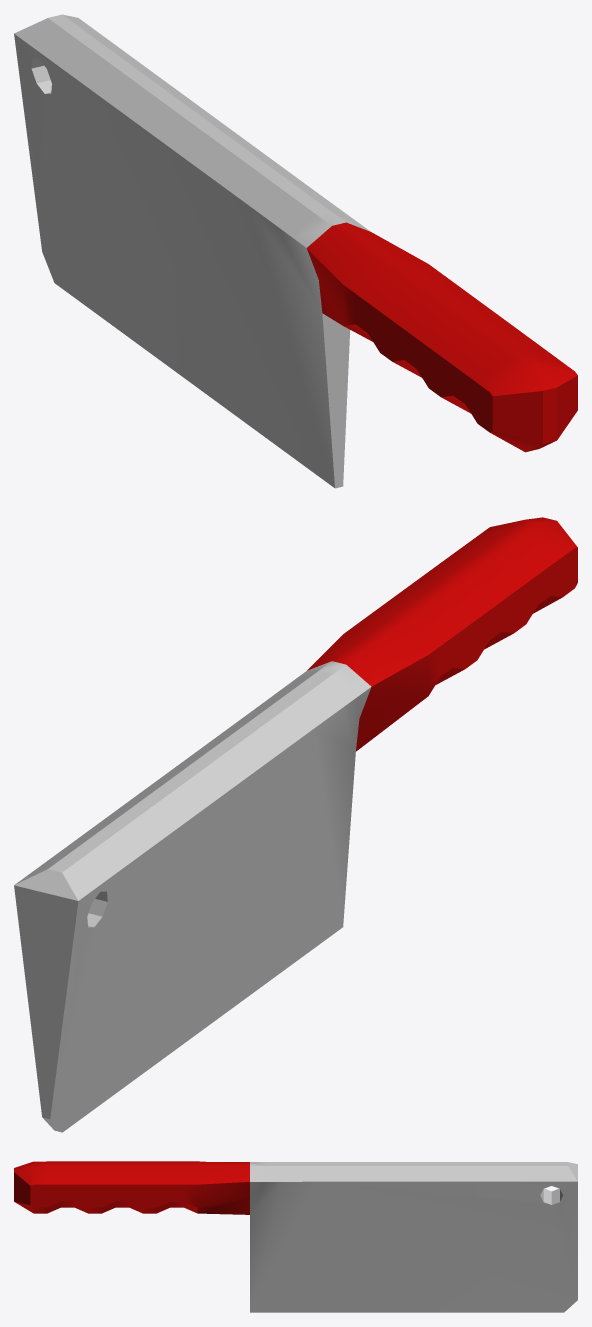
File: Knife.obj
3 renders of one model, top to bottom at view 1: azimuth 30°, elevation 25°; view 2: azimuth 150°, elevation 25°; view 3: azimuth 270°, elevation 25°, orthographic. The views are drawn at different scales.
Parts seen in each view (by area): view 1: Cube_Blade, Cube_Handle; view 2: Cube_Blade, Cube_Handle; view 3: Cube_Blade, Cube_Handle.
Boxes of the visible parts, x1=… form: Cube_Blade: x1=14, y1=14, x2=370, y2=488; Cube_Handle: x1=306, y1=222, x2=577, y2=452; Cube_Blade: x1=14, y1=661, x2=371, y2=1132; Cube_Handle: x1=307, y1=517, x2=577, y2=751; Cube_Blade: x1=250, y1=1162, x2=577, y2=1312; Cube_Handle: x1=14, y1=1161, x2=249, y2=1214.
Size of the model in its own units: 0.84 by 2.48 by 8.6.
